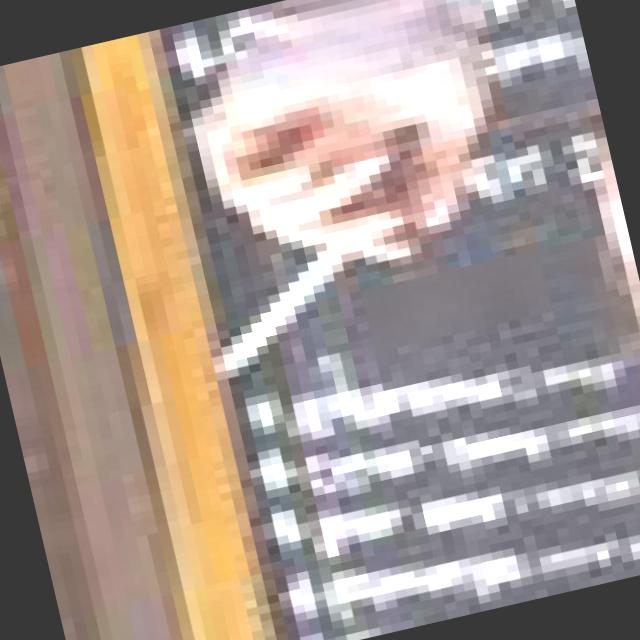cigarette: (172, 246, 366, 408)
